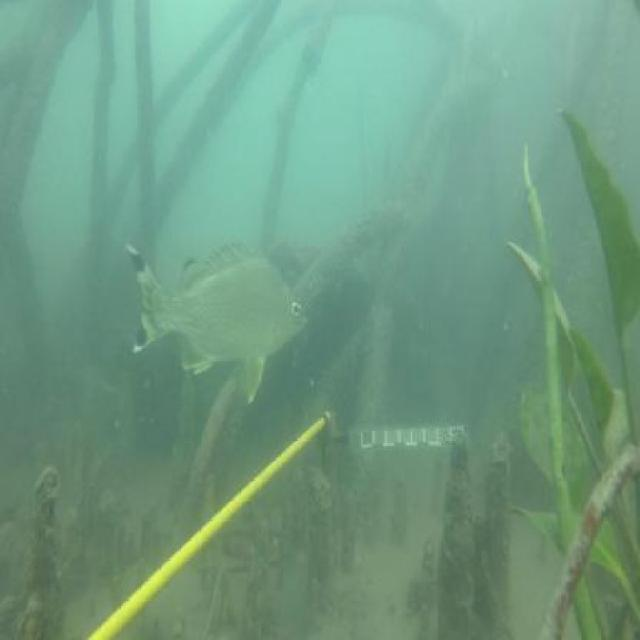Amniataba_caudivittatus: (124, 238, 310, 408)
